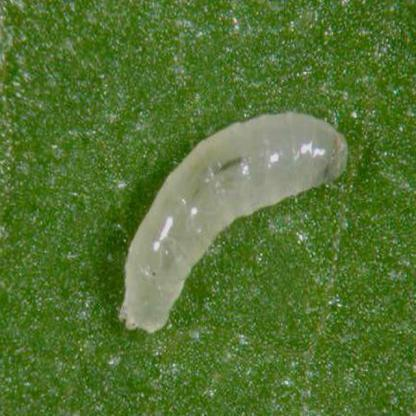whorl-maggot: (113, 105, 350, 337)
